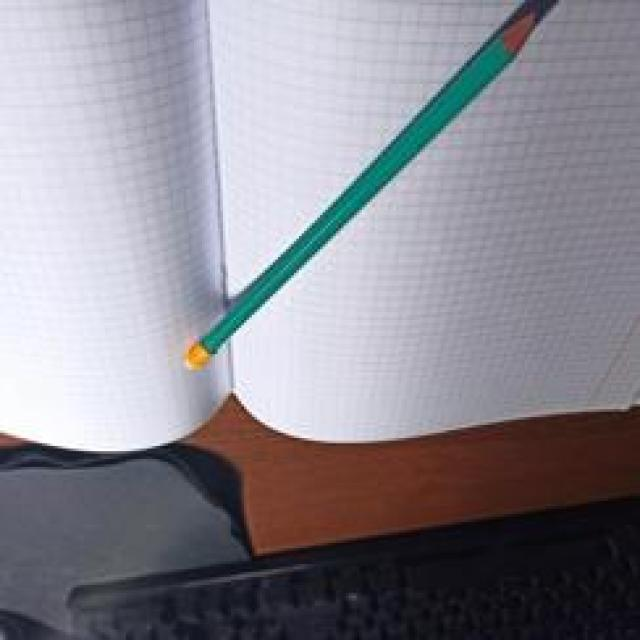pencil: (181, 0, 561, 370)
